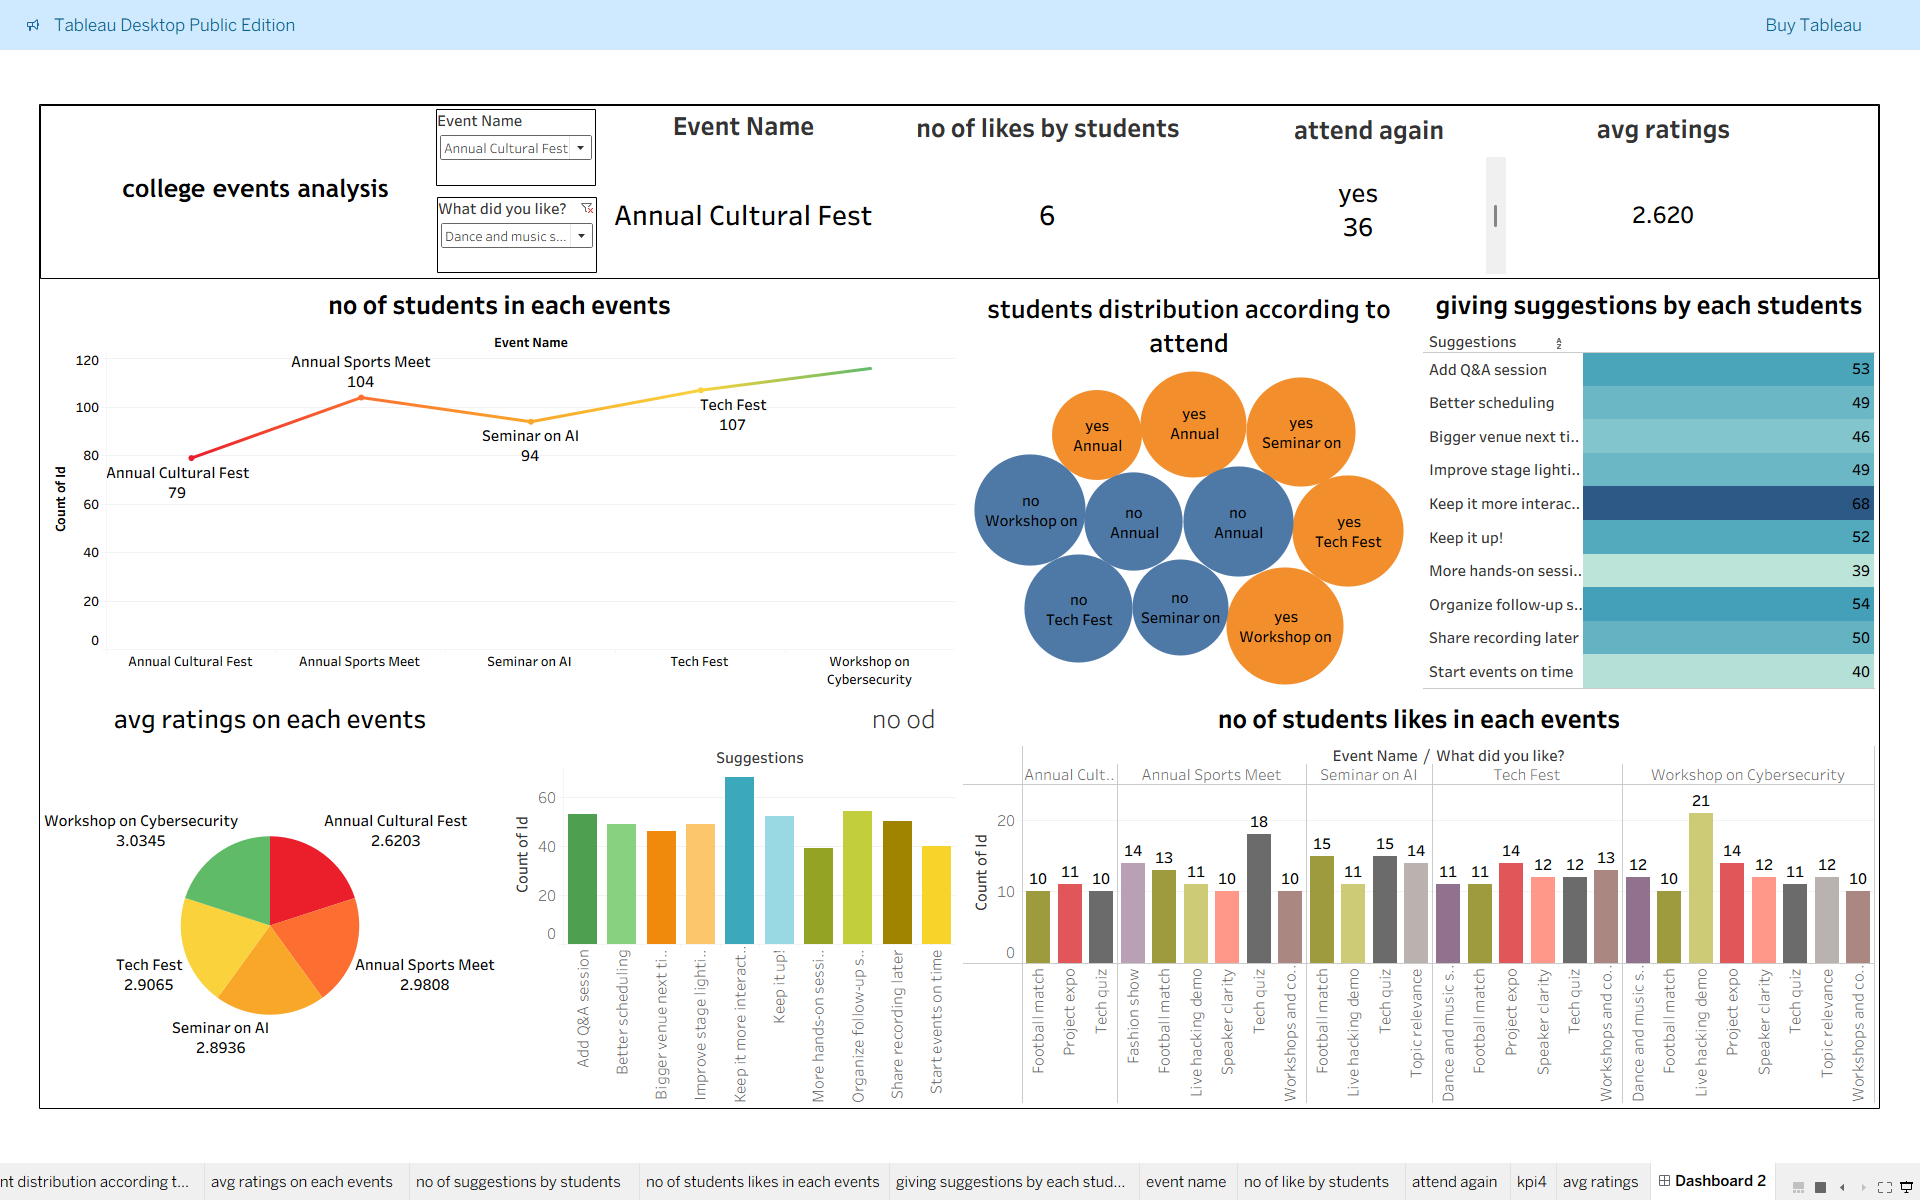

The page's visual inventory and layout, read from the dashboard file:
{"tool":"tableau","page":{"name":"Dashboard 2","canvas":[1857,1021],"ordinal":0},"visuals":[{"type":"text","box":[10,7,429,172]},{"type":"worksheet","title":"event name","mark":"Automatic","box":[565,8,295,172]},{"type":"worksheet","title":"no of like by students","mark":"Automatic","box":[880,10,274,168]},{"type":"worksheet","title":"avg ratings","mark":"Automatic","box":[1496,11,273,166]},{"type":"worksheet","title":"attend again","mark":"Automatic","box":[1201,12,274,166]},{"type":"filter","title":"no of like by students","param":"[federated.17utj2v011gvhs1e843of1alk0b5].[none:Event Name:nk]","box":[405,13,160,77]},{"type":"filter","title":"no of like by students","param":"[federated.17utj2v011gvhs1e843of1alk0b5].[none:What did you like?:nk]","box":[406,101,160,76]},{"type":"worksheet","title":"no of participants in each event","mark":"Line","rows":["id"],"cols":["Event Name"],"box":[9,183,919.4,414.3]},{"type":"worksheet","title":"student distribution according to attend again yes or no","mark":"Circle","box":[928.4,183,459.6,414.3]},{"type":"worksheet","title":"giving suggestions by each students","mark":"Square","rows":["Suggestions"],"box":[1388.1,183,459.9,414.3]},{"type":"worksheet","title":"avg ratings on each events","mark":"Pie","box":[9,597.3,459.5,414.7]},{"type":"worksheet","title":"no of suggestions by students","mark":"Automatic","rows":["id"],"cols":["Suggestions"],"box":[468.5,597.3,459.9,414.7]},{"type":"worksheet","title":"no of students likes in each events","mark":"Automatic","rows":["id"],"cols":["Event Name","What did you like?"],"box":[928.4,597.3,919.5,414.7]}]}

Visuals, with their boxes on the page's 1857x1021 design canvas (x1, y1, x2, y2). These are canvas units, not pixel positions in the 1920x1200 screenshot, which may show the page scaled, cropped or inside an application window:
text: {"left": 10, "top": 7, "right": 439, "bottom": 179}
"event name" worksheet: {"left": 565, "top": 8, "right": 860, "bottom": 180}
"no of like by students" worksheet: {"left": 880, "top": 10, "right": 1154, "bottom": 178}
"avg ratings" worksheet: {"left": 1496, "top": 11, "right": 1769, "bottom": 177}
"attend again" worksheet: {"left": 1201, "top": 12, "right": 1475, "bottom": 178}
"no of like by students" filter: {"left": 405, "top": 13, "right": 565, "bottom": 90}
"no of like by students" filter: {"left": 406, "top": 101, "right": 566, "bottom": 177}
"no of participants in each event" worksheet (Line marks): {"left": 9, "top": 183, "right": 928, "bottom": 597}
"student distribution according to attend again yes or no" worksheet (Circle marks): {"left": 928, "top": 183, "right": 1388, "bottom": 597}
"giving suggestions by each students" worksheet (Square marks): {"left": 1388, "top": 183, "right": 1848, "bottom": 597}
"avg ratings on each events" worksheet (Pie marks): {"left": 9, "top": 597, "right": 468, "bottom": 1012}
"no of suggestions by students" worksheet: {"left": 468, "top": 597, "right": 928, "bottom": 1012}
"no of students likes in each events" worksheet: {"left": 928, "top": 597, "right": 1848, "bottom": 1012}
